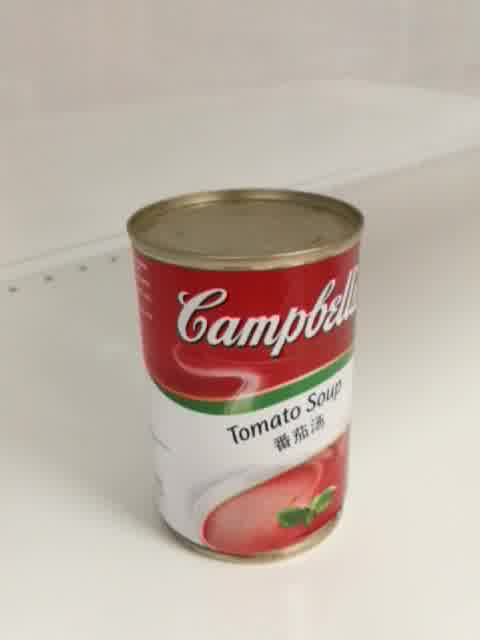tomatosoup: (125, 185, 367, 566)
